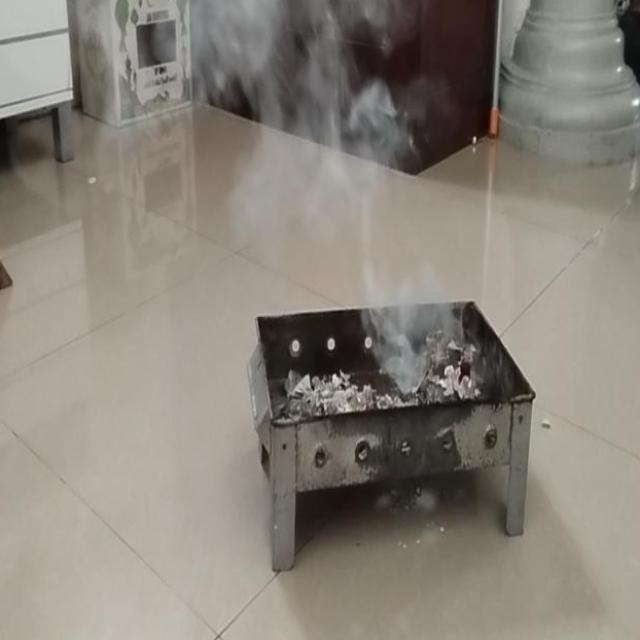fire: (185, 0, 384, 222), (357, 255, 470, 390)
